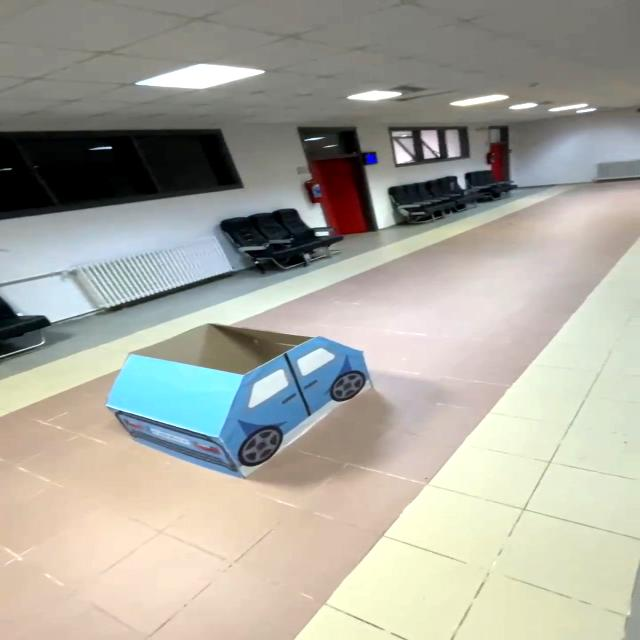blue_car: (85, 312, 397, 484)
